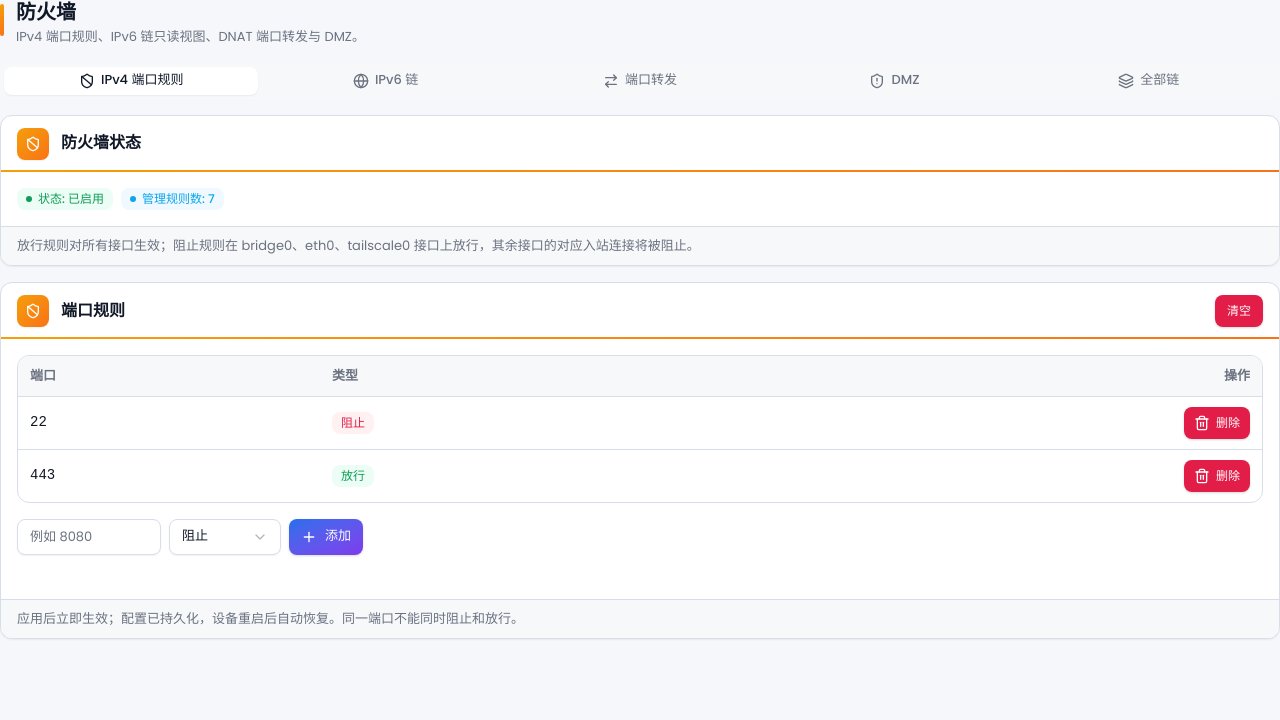
Test case: FirewallPage 组件 › 暂存编辑:新增规则 → 脏条出现 → 应用 confirm 显示 diff → save 原子提交
This screenshot has width=1280, height=720.
Expected: the cell "22" is shown, [18,396,320,449]
Expected: the text "项更改未应用" is not shown
Type "8080" into the field named "端口" at (89, 537), box [17,519,161,555]
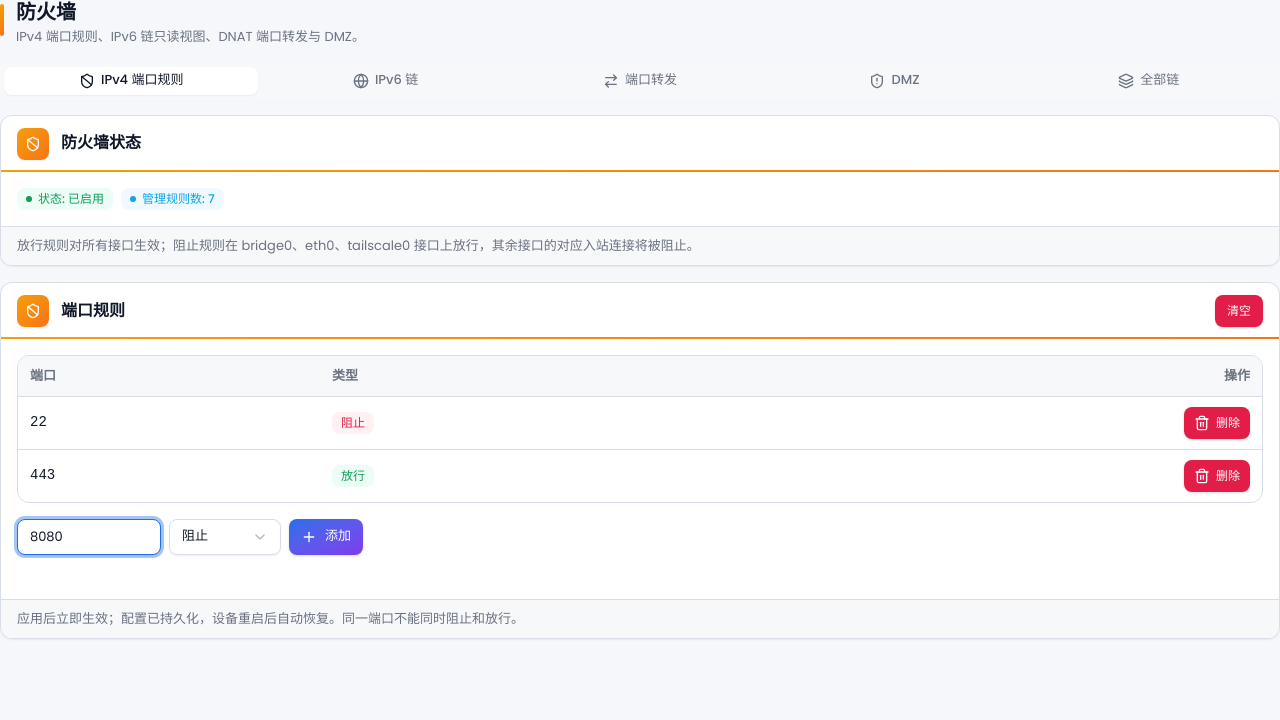
Click the button "添加" at (326, 537), box [289,519,363,555]
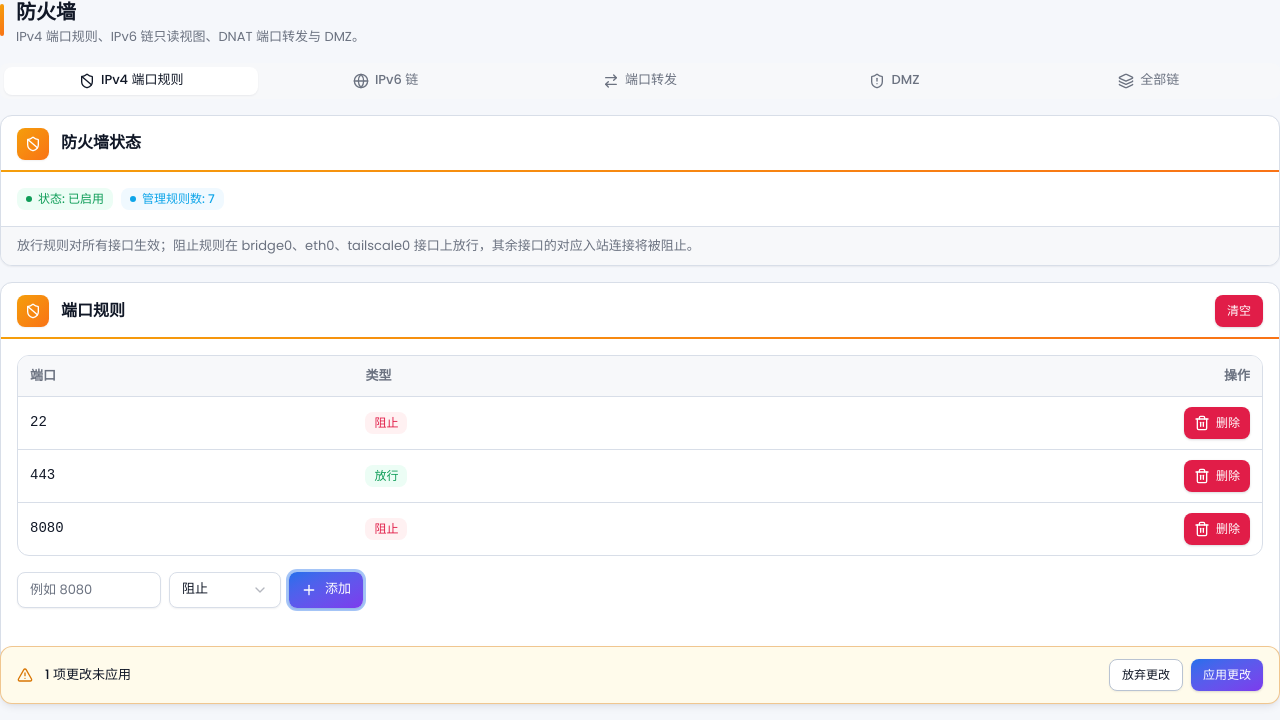
Now the text "1 项更改未应用" is shown, box [45,666,131,684]
Click the button "应用更改" at (1227, 675), box [1191,659,1263,691]
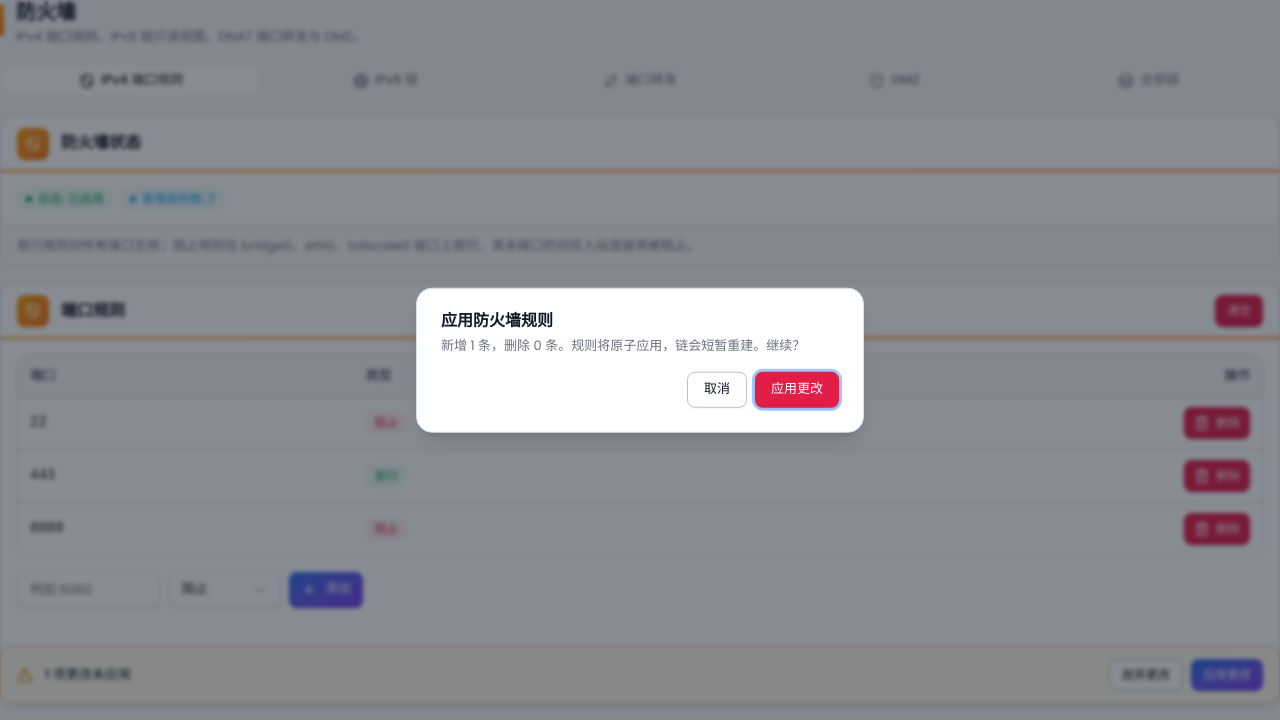
Now the dialog shows "新增 1 条，删除 0 条", box [441,336,805,355]
Click the button "应用更改" at (797, 389), box [755,371,839,407]
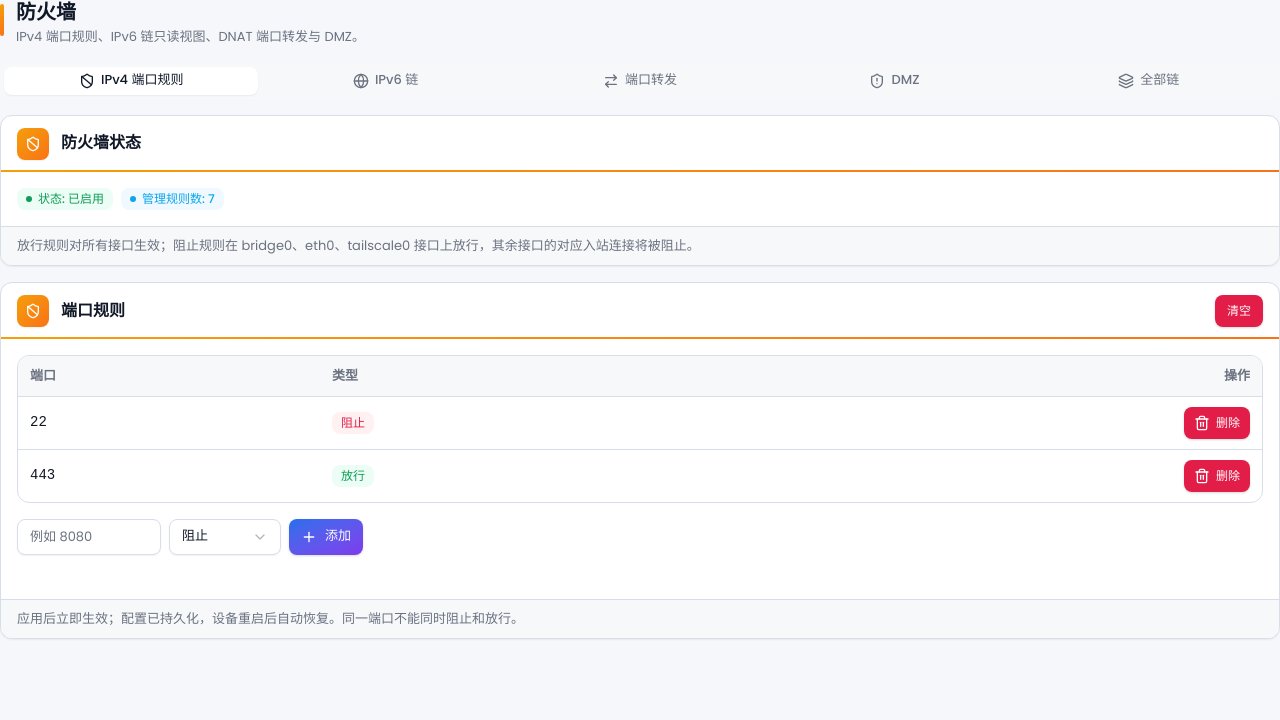
Now the text "项更改未应用" is gone
